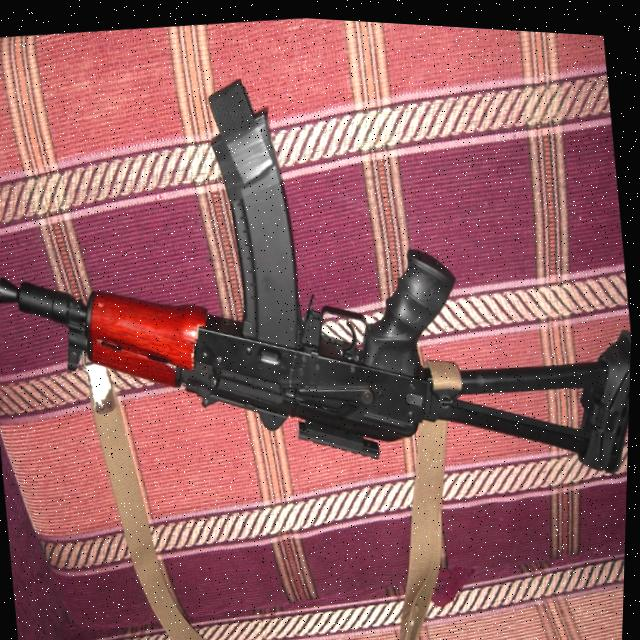firearm: (0, 56, 639, 540)
